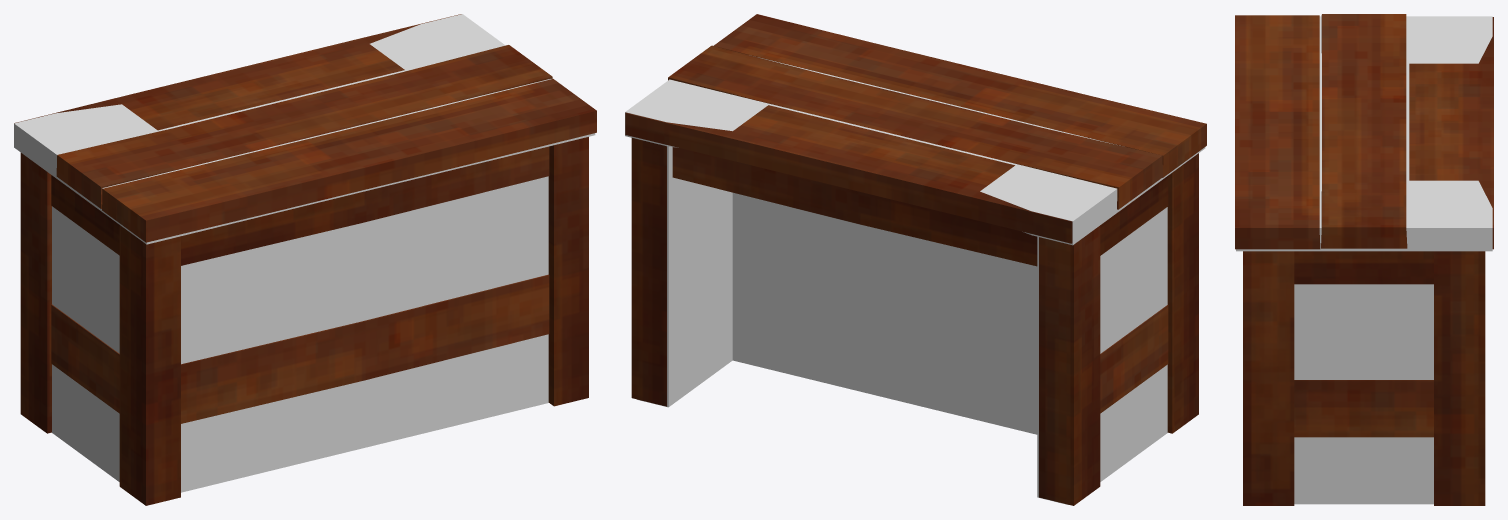
File: chTable.fbx
3 views of the same model, side by side, from view 1: azimuth 30°, elevation 25°; view 2: azimuth 150°, elevation 25°; view 3: azimuth 270°, elevation 25° (orthographic). The views are drawn at different scales.
Parts seen in each view (by area): view 1: Table, TablePHY; view 2: Table, TablePHY; view 3: Table, TablePHY.
Boxes of the visible parts, box(x1,y1,x2,y2) form: Table: box(14, 14, 596, 505); TablePHY: box(14, 14, 595, 492); Table: box(625, 14, 1206, 505); TablePHY: box(625, 57, 1205, 504); Table: box(1235, 14, 1493, 505); TablePHY: box(1236, 16, 1492, 504).
Size of the model in its own units: 0.8994 by 1.75 by 1.08.
